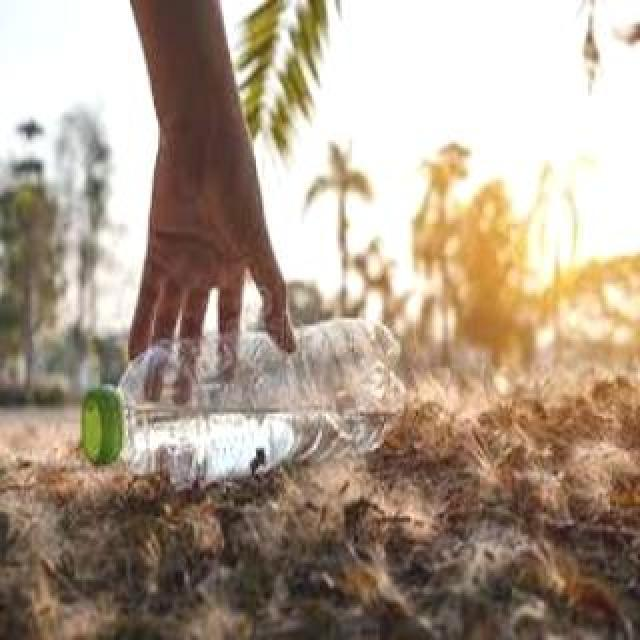Pet_Bottle: (83, 319, 407, 483)
